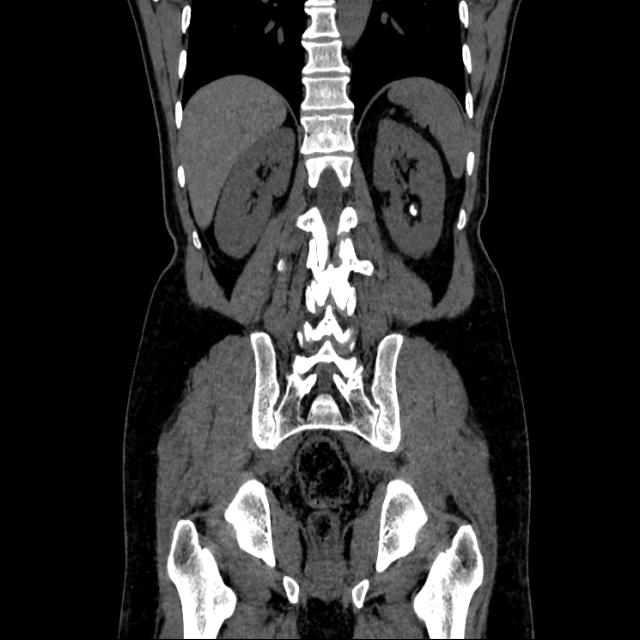kidneystone: (406, 195, 421, 220)
